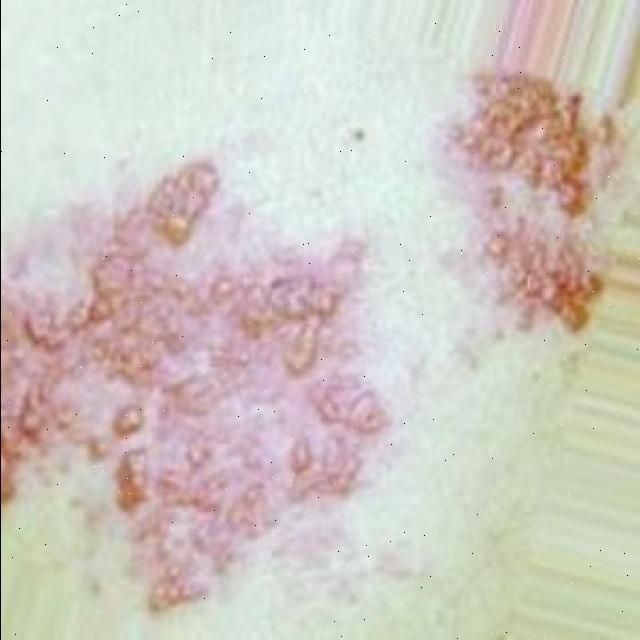Shingles: (0, 159, 396, 617), (438, 66, 606, 336)
